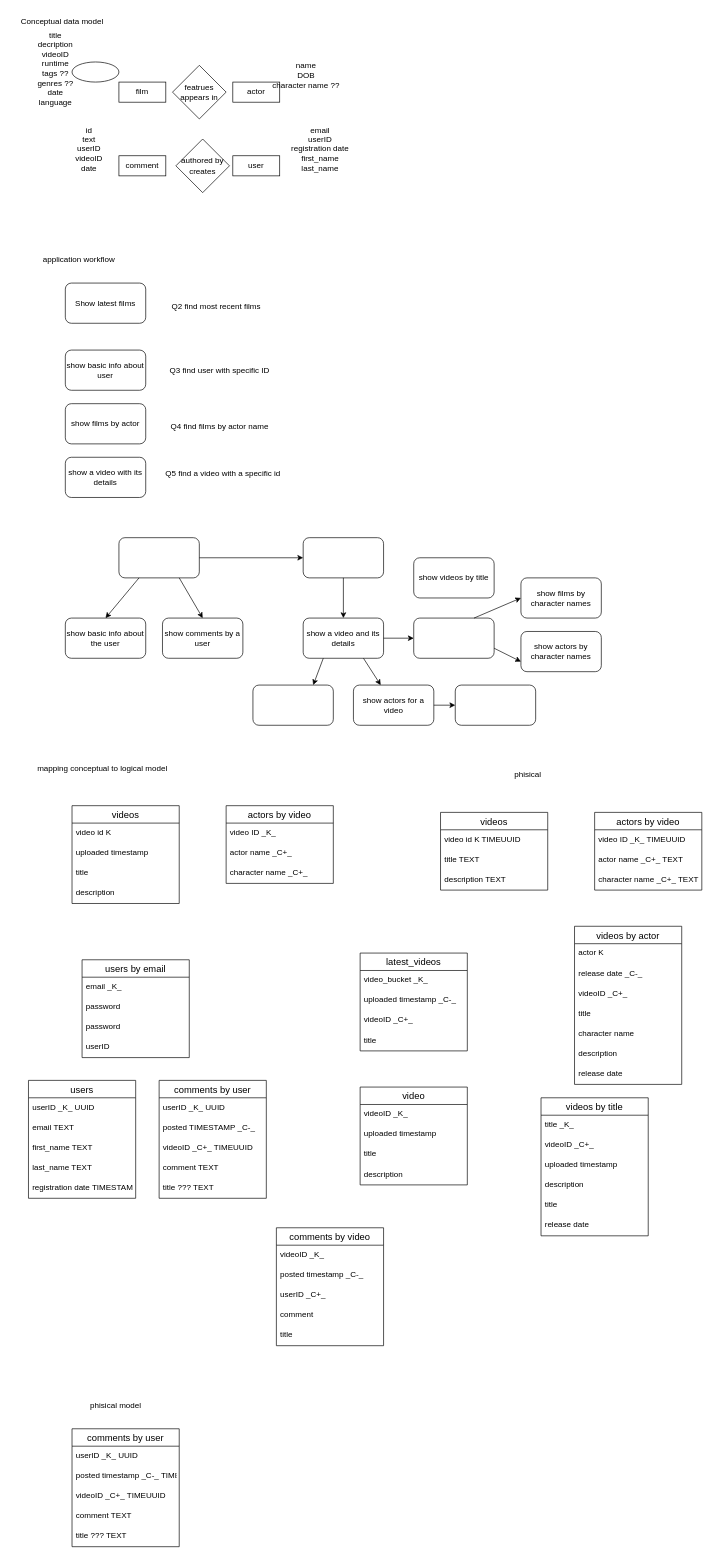
The diagram is 714 pixels wide and 1560 high, and some of its shapes have lost their labels. Each missing label, with the centre of its shape:
"show character names" belongs at pixel 453 637.
"show comments for a video" belongs at pixel 292 704.
"show films by actor name" belongs at pixel 495 704.
"show latest videos added to the site" belongs at pixel 343 557.
"user logs into the site" belongs at pixel 158 557.
